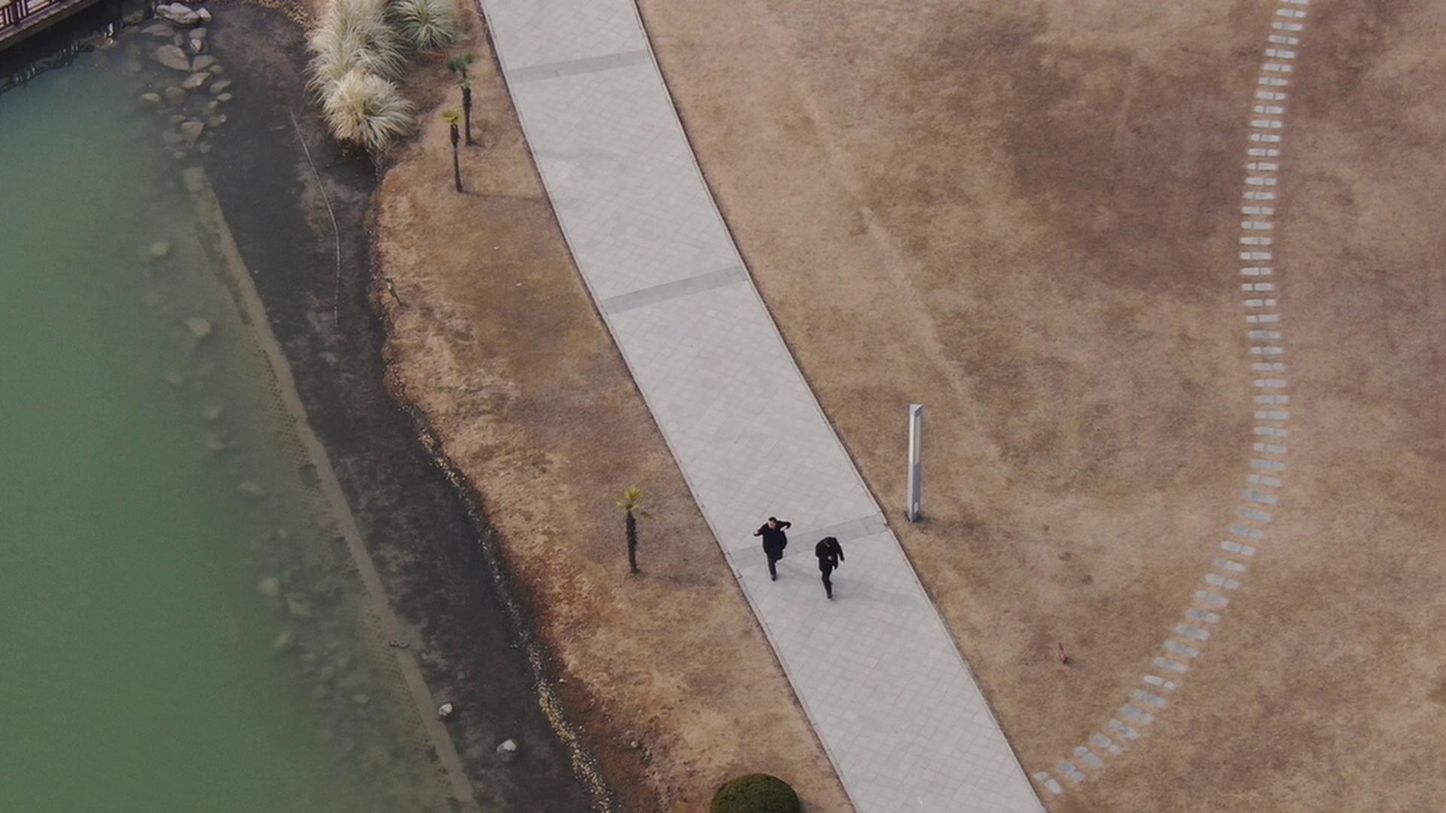human: (803, 528, 849, 604), (752, 508, 798, 579)
